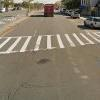cars: (83, 15, 100, 31)
